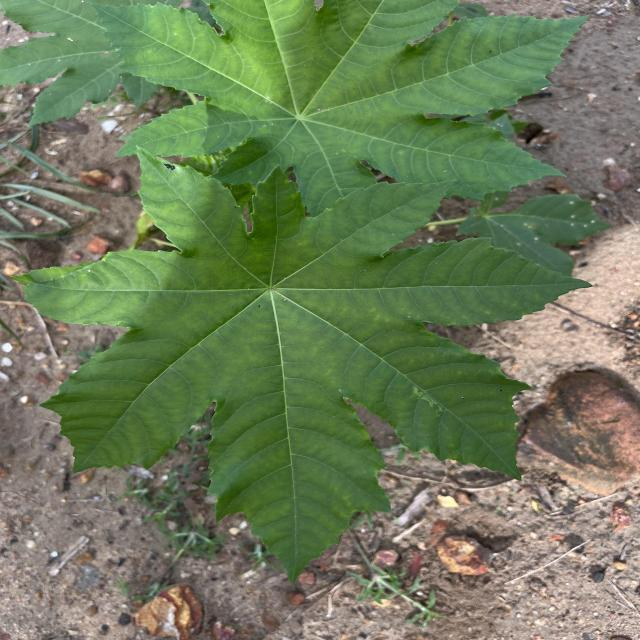Ricinus communis linn: (4, 140, 598, 594)
